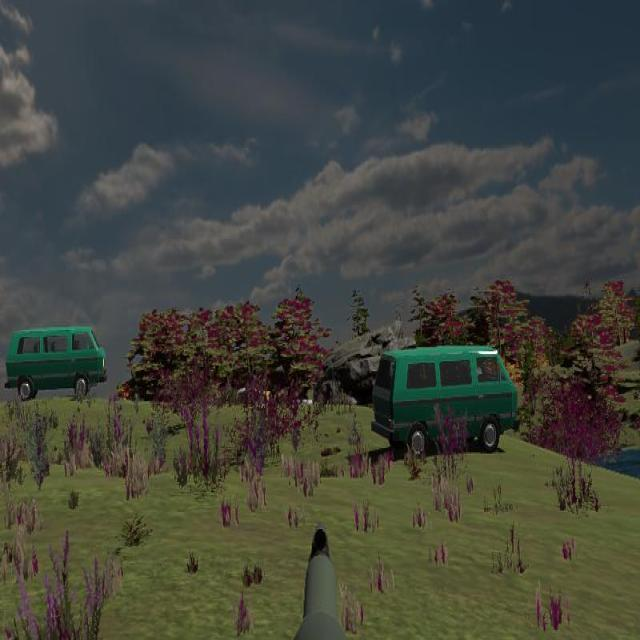car: (372, 344, 519, 458), (5, 325, 107, 402)
